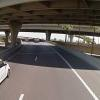Bridge: (1, 2, 98, 54)
